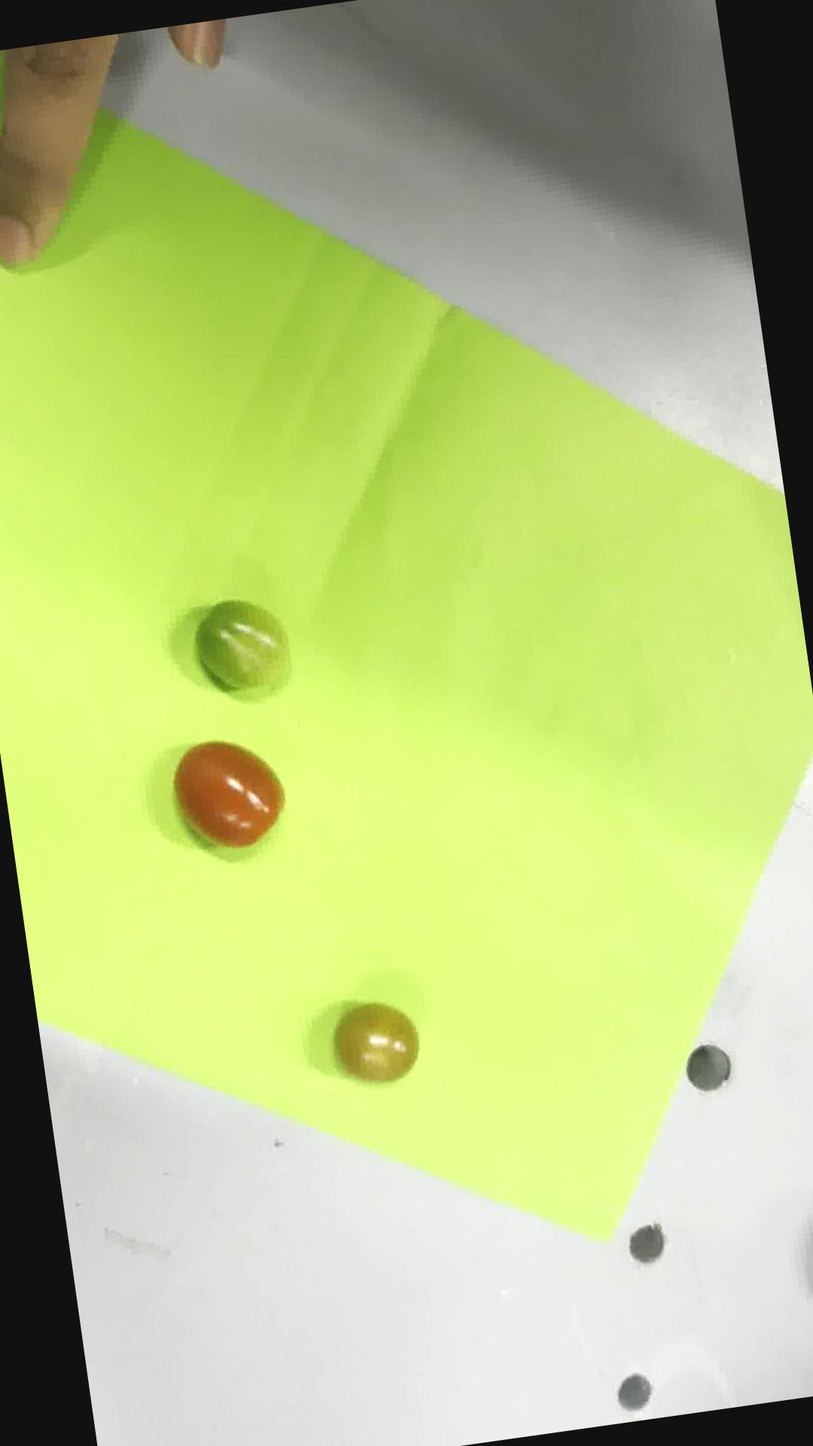green_cherry_tomato: (196, 599, 289, 690)
red_cherry_tomato: (175, 741, 284, 847)
yellow_cherry_tomato: (334, 1003, 419, 1082)
